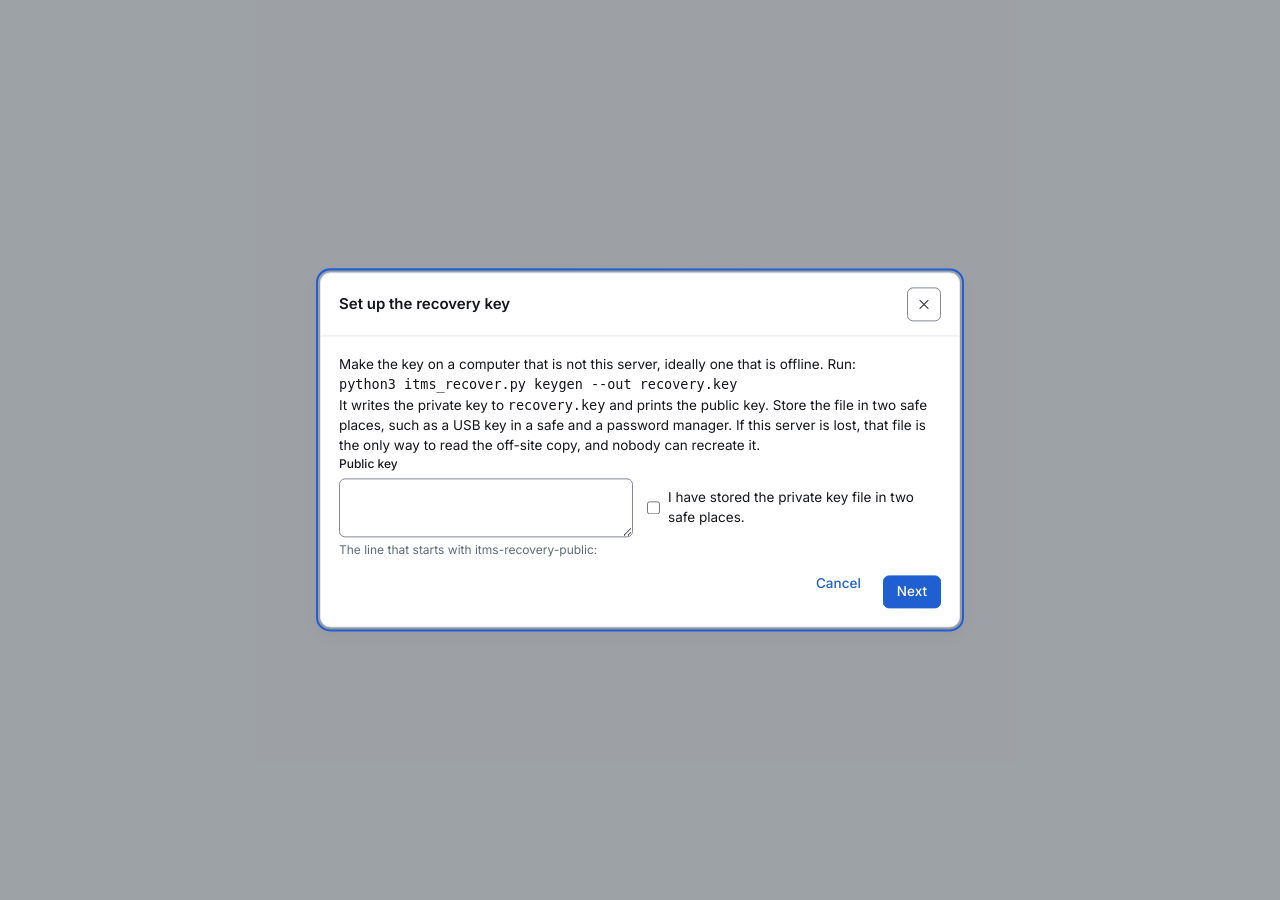
recovery key wizard › registers the key, shows the check, and confirms the answer
Type "itms-recovery-public:QUJD" into the text box labelled "Public key" at (486, 508), box [339,479,633,537]
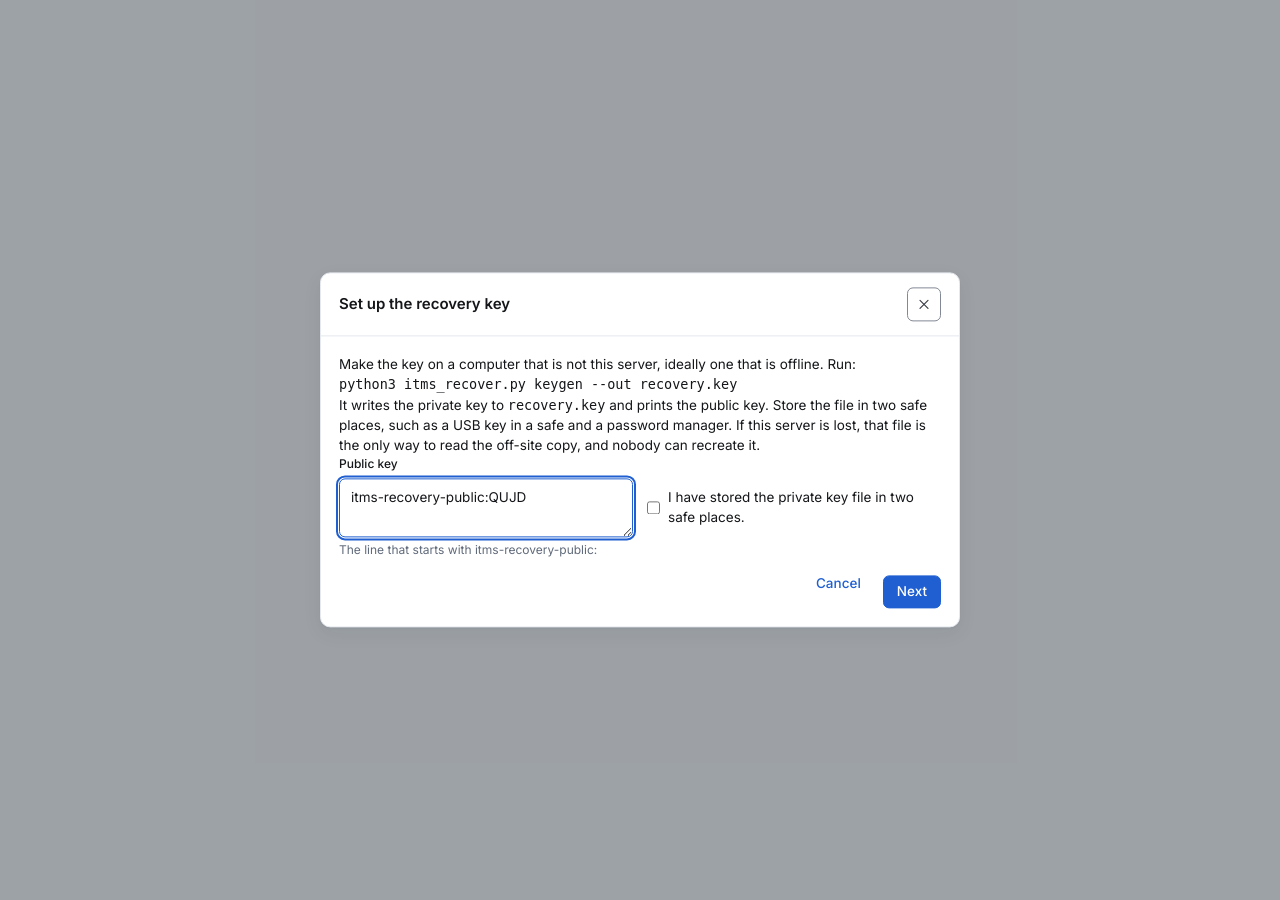
Click the checkbox at (654, 507), box [647,501,660,514]
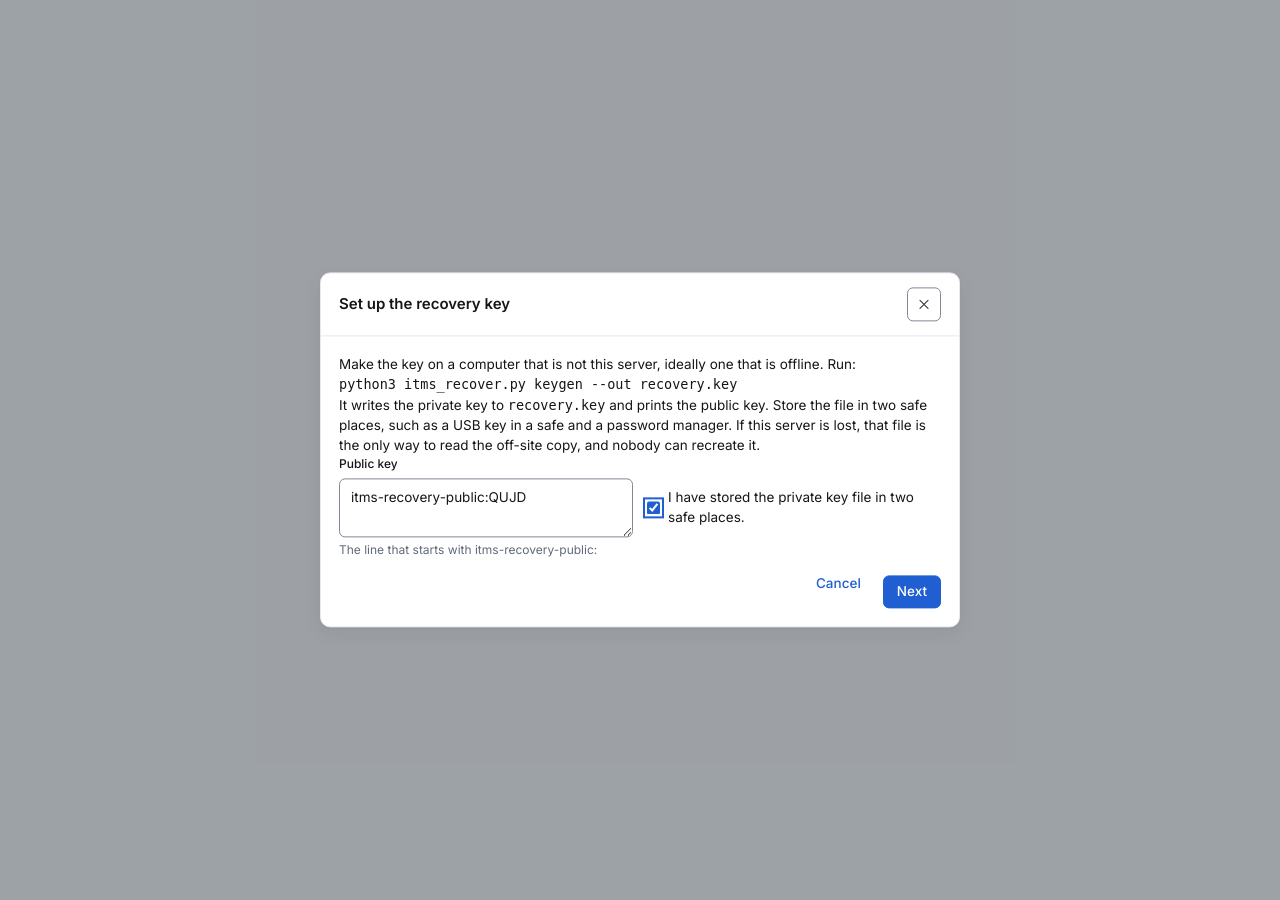
Click the button "Next" at (912, 592), box [883,575,941,609]
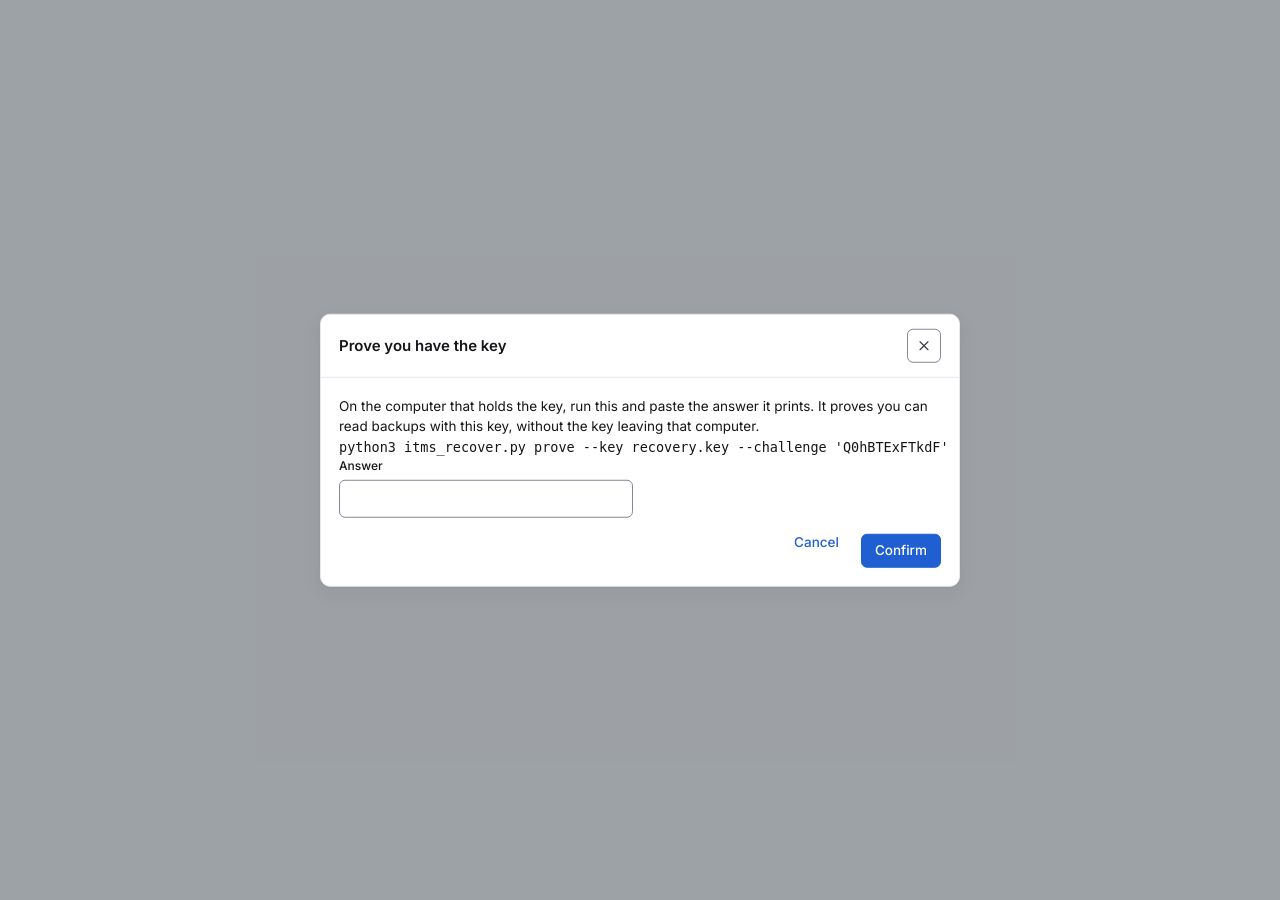
Now the text "prove --key recovery.key --challenge 'Q0hBTExFTkdF'" is shown, box [339,438,949,454]
Type "YW5zd2Vy" into the field labelled "Answer" at (486, 499), box [339,480,633,518]
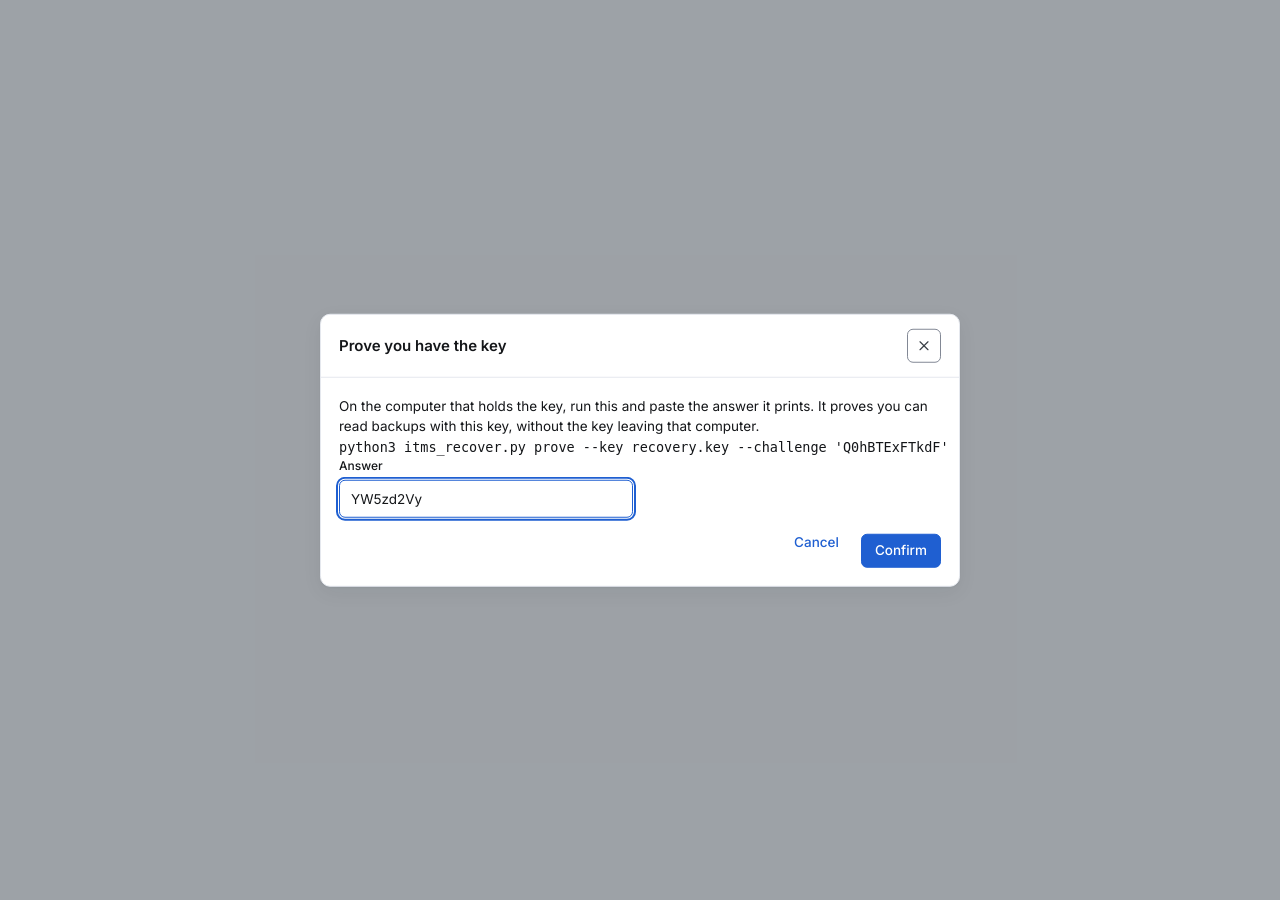
Click the button "Confirm" at (901, 551), box [861,534,941,567]
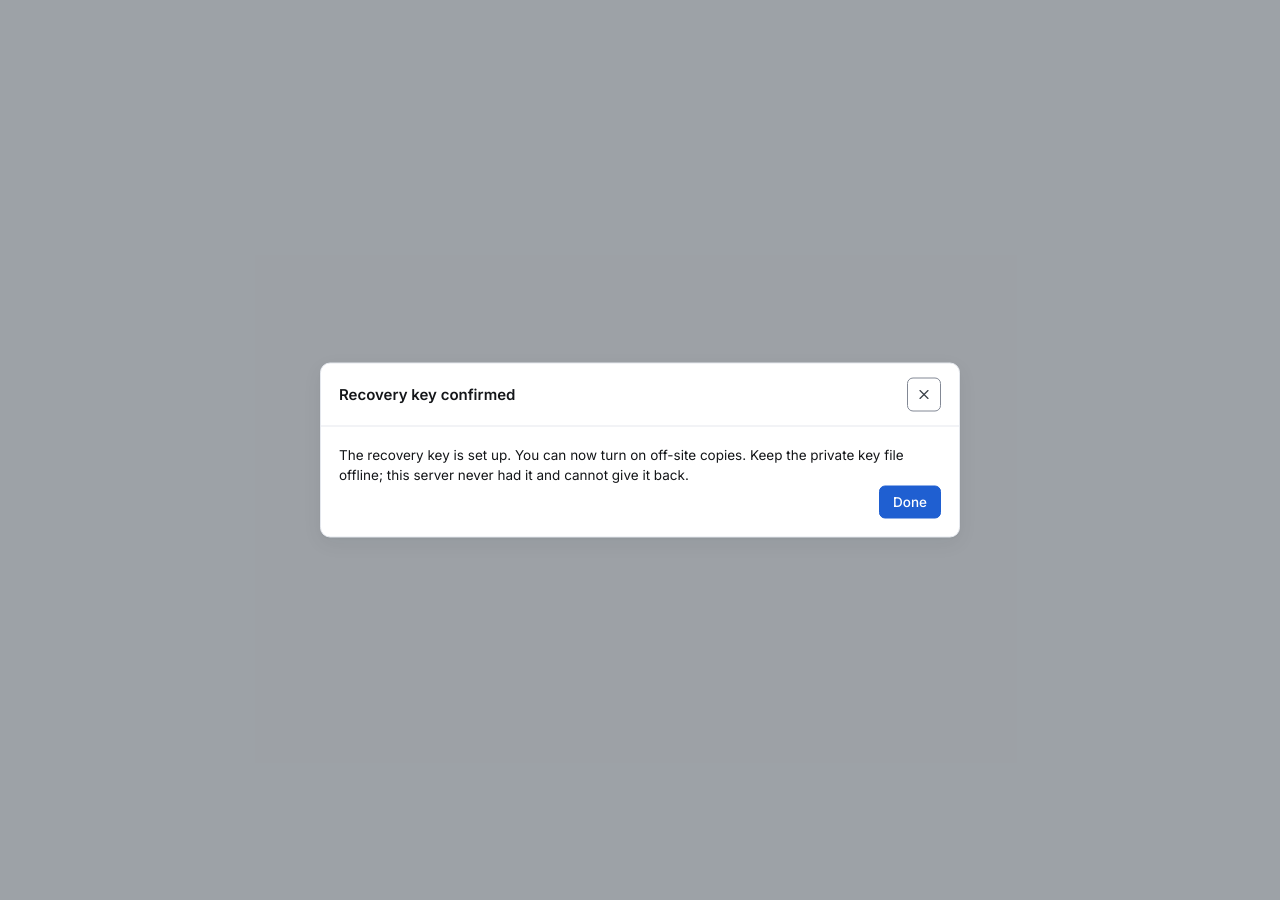
Now the text "recovery key is set up" is shown, box [339,446,904,483]
